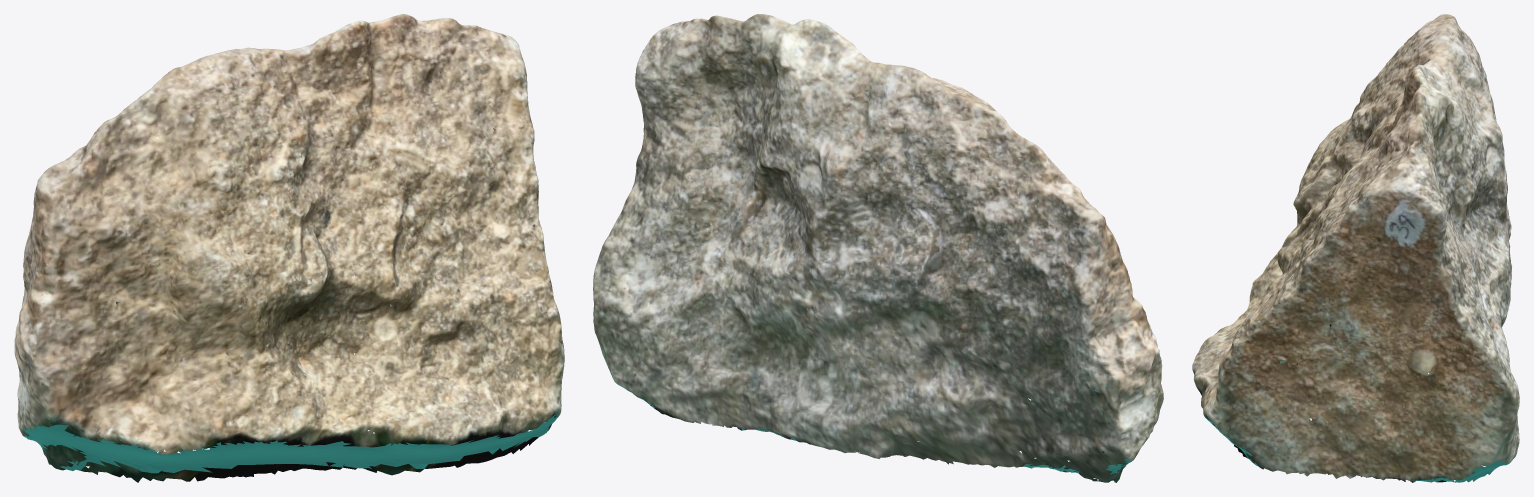
The model's file is limestone.glb.
3 renders of one model, left to right at view 1: azimuth 30°, elevation 25°; view 2: azimuth 150°, elevation 25°; view 3: azimuth 270°, elevation 25°, orthographic. The views are drawn at different scales.
Visible parts, largest first — view 1: Object_2; view 2: Object_2; view 3: Object_2.
Boxes of the visible parts, left/top/right/bottom form: Object_2: left=14, top=14, right=564, bottom=482; Object_2: left=593, top=14, right=1163, bottom=482; Object_2: left=1192, top=14, right=1519, bottom=482.
Bounding box in the file's own units: 0.11 × 0.0795 × 0.0669.
2 materials, 2 textured.
